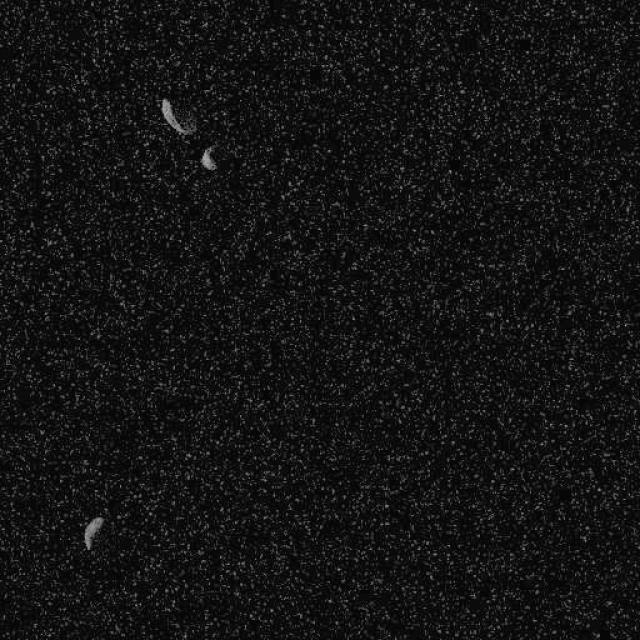D2: (159, 96, 196, 136), (81, 515, 104, 550), (198, 144, 218, 171)
